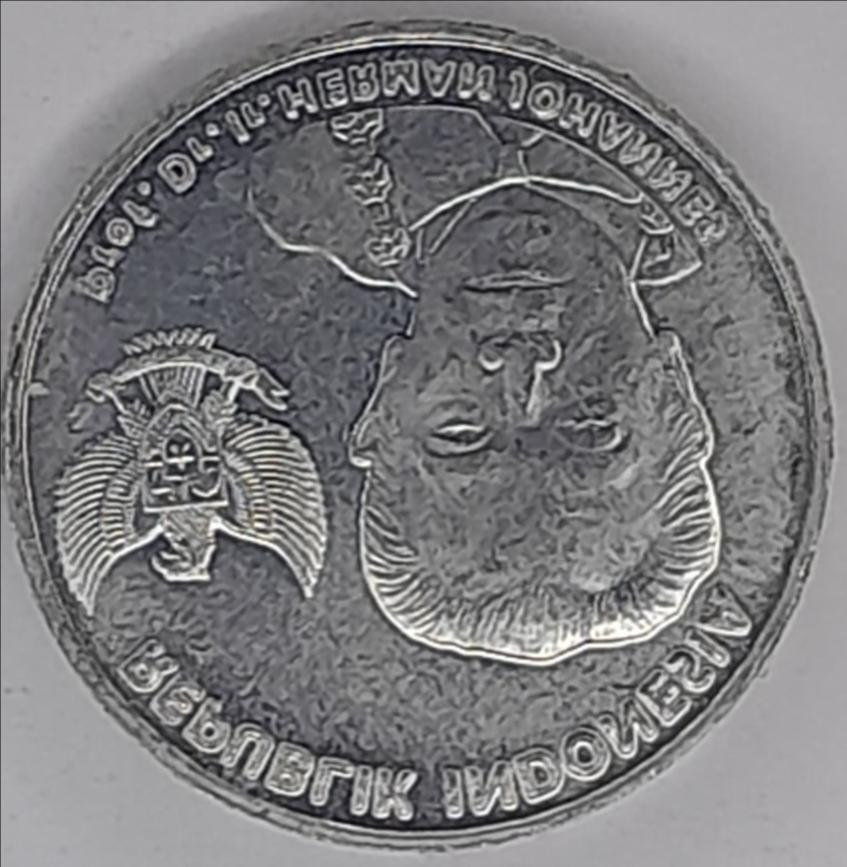coin_100_e2016: (0, 10, 840, 854)
